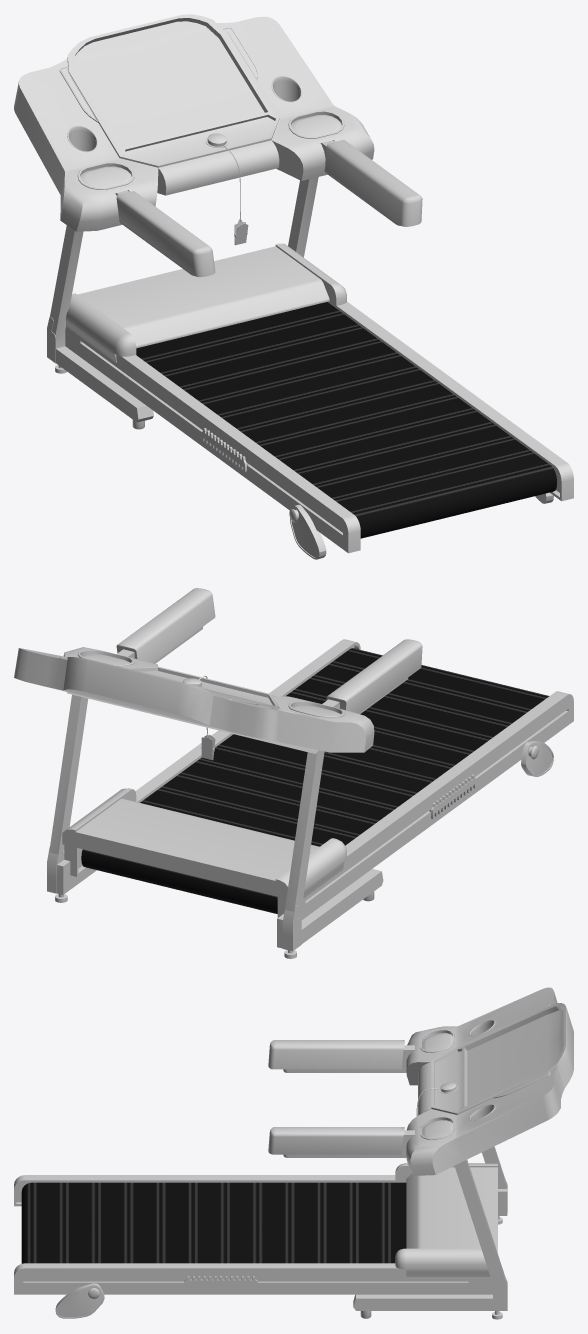
The model's file is treadmill.fbx.
3 renders of one model, top to bottom at view 1: azimuth 30°, elevation 25°; view 2: azimuth 150°, elevation 25°; view 3: azimuth 270°, elevation 25°, orthographic. The views are drawn at different scales.
Visible parts, largest first — view 1: LOD0; view 2: LOD0; view 3: LOD0.
Part boxes in pixels (<box>): LOD0: <box>14,14,573,559</box>; LOD0: <box>14,588,573,958</box>; LOD0: <box>14,987,573,1319</box>.
Size of what is drawn, in the model's own units: 30.27 by 27.36 by 56.99.
